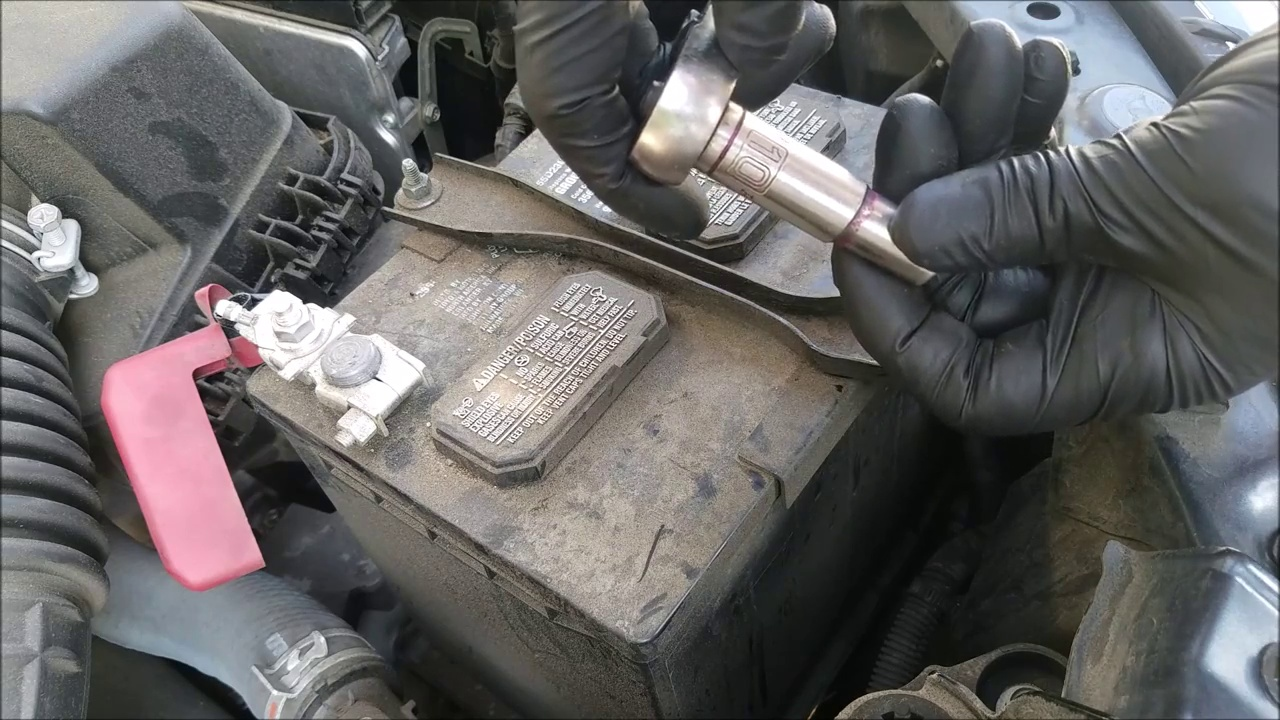battery: (243, 24, 967, 621)
pos_connected: (115, 260, 438, 460)
